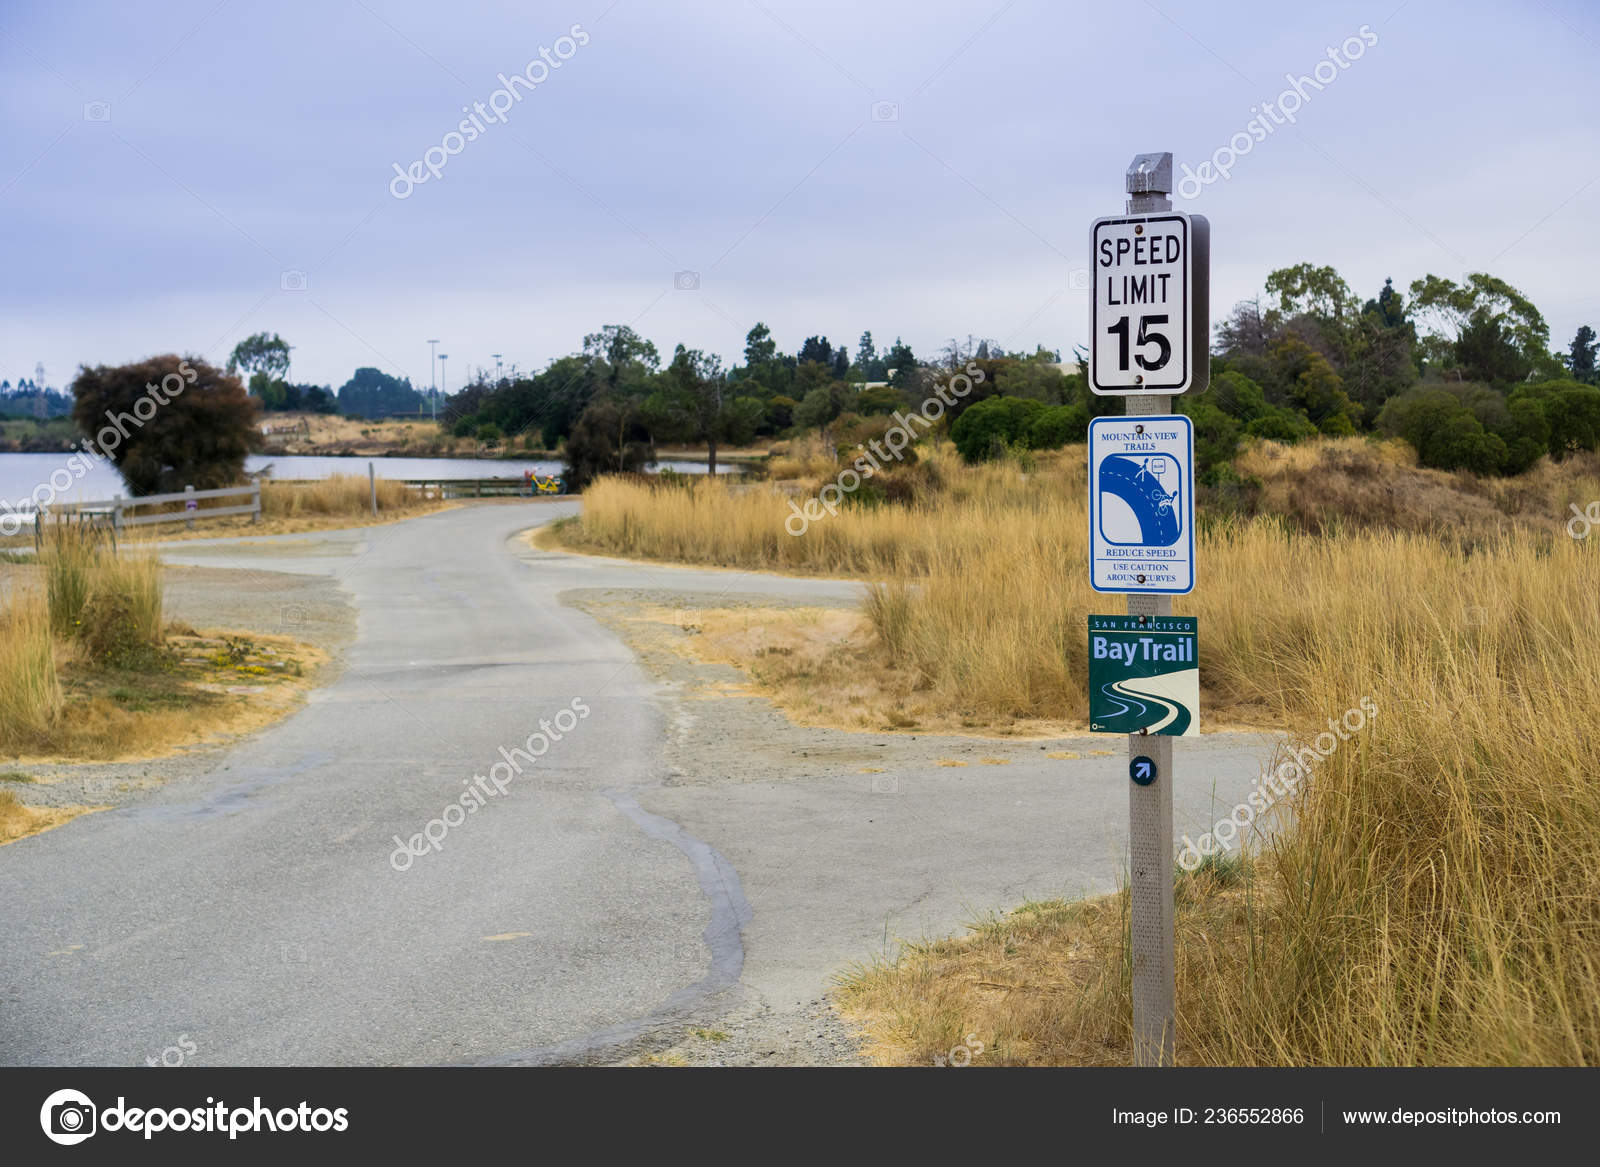speed limit: (1077, 170, 1219, 415)
